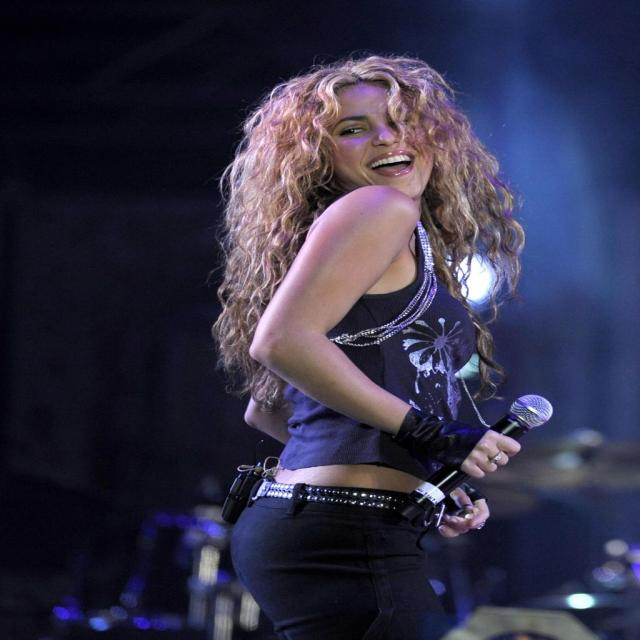Face: (308, 80, 452, 212)
